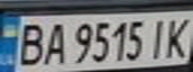1: (109, 18, 130, 62)
5: (124, 17, 151, 61), (90, 18, 112, 64)
9: (69, 18, 93, 65)
A: (39, 19, 69, 67)
B: (9, 19, 48, 66)
I: (145, 16, 172, 61)
K: (160, 13, 193, 60)
